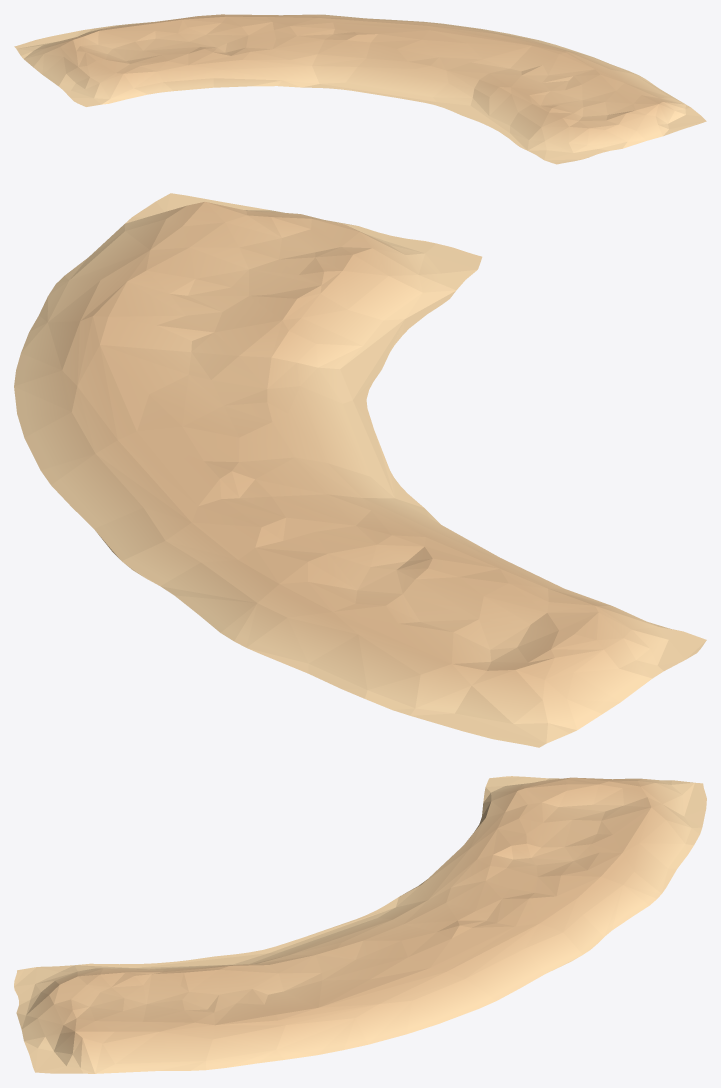
Rendered from Ground Curve 10 M.glb.
The picture shows the model from 3 angles, top to bottom: view 1: azimuth 30°, elevation 25°; view 2: azimuth 150°, elevation 25°; view 3: azimuth 270°, elevation 25°; orthographic projection. The views are drawn at different scales.
Visible parts, largest first — view 1: Ground Curve 10 M; view 2: Ground Curve 10 M; view 3: Ground Curve 10 M.
Part boxes in pixels (x1=…): Ground Curve 10 M: x1=14, y1=14, x2=706, y2=164; Ground Curve 10 M: x1=14, y1=193, x2=706, y2=747; Ground Curve 10 M: x1=14, y1=776, x2=706, y2=1073.
Size of what is drawn, in the model's own units: 11.4 by 0.4157 by 11.21.
Materials: 1 (1 with a texture image).
